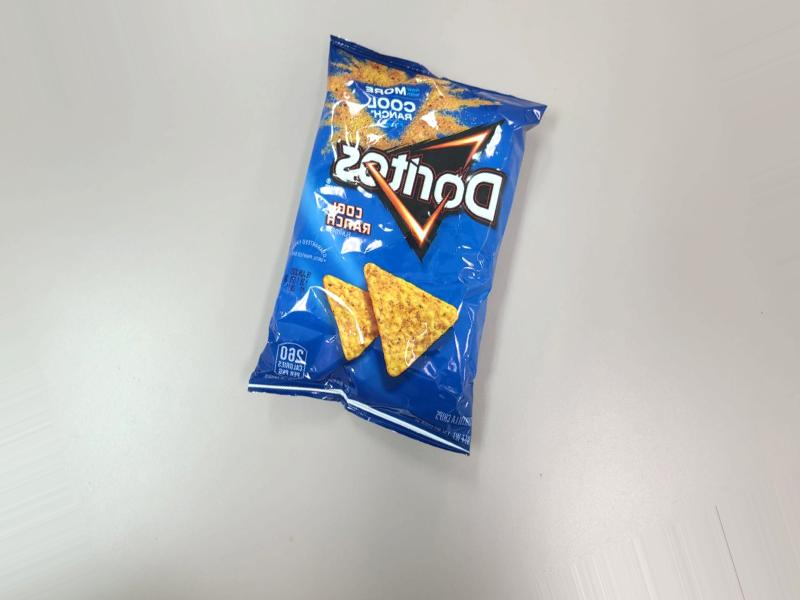doritos: (263, 83, 552, 509)
